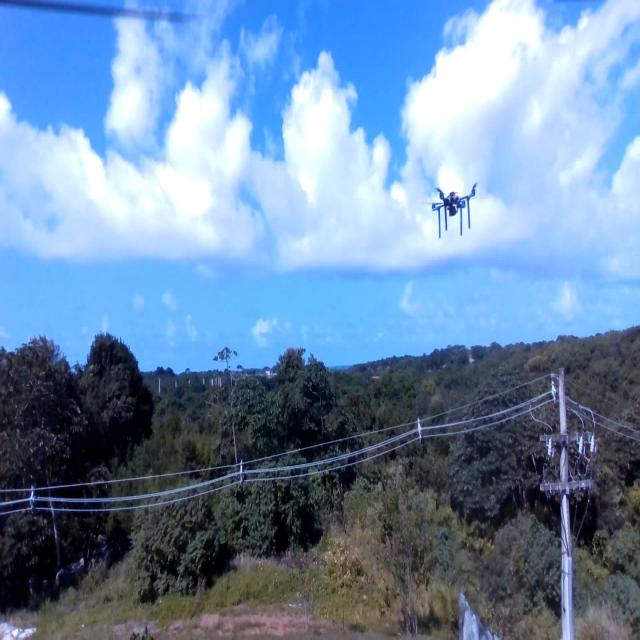-uav-: (420, 160, 492, 265)
